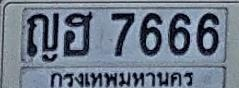6: (196, 12, 220, 55), (140, 12, 163, 56), (168, 12, 190, 55)
7: (111, 12, 134, 56)
A13: (26, 12, 59, 62)
A44: (63, 11, 93, 56)
BKK: (44, 69, 197, 88)
